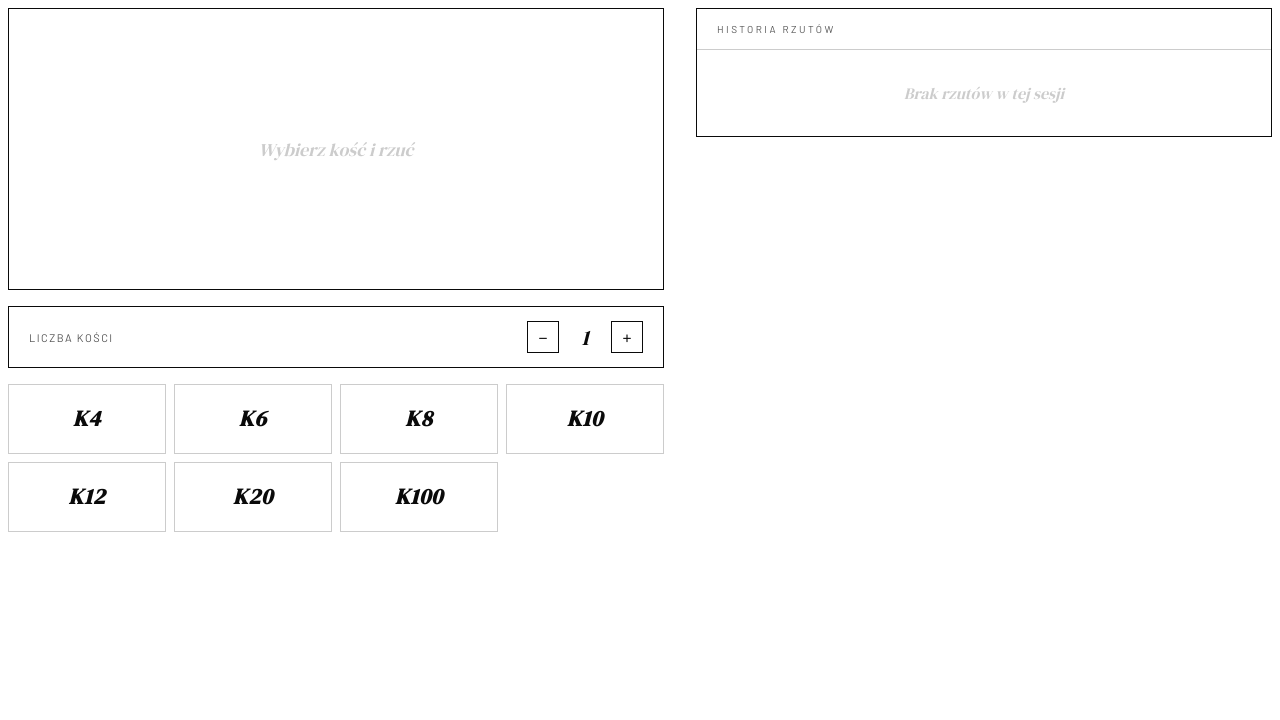
it: DiceRoller › po rzucie historia ma 1 wpis
Click the button with test id "die-20" at (253, 497), box [174,462,332,532]
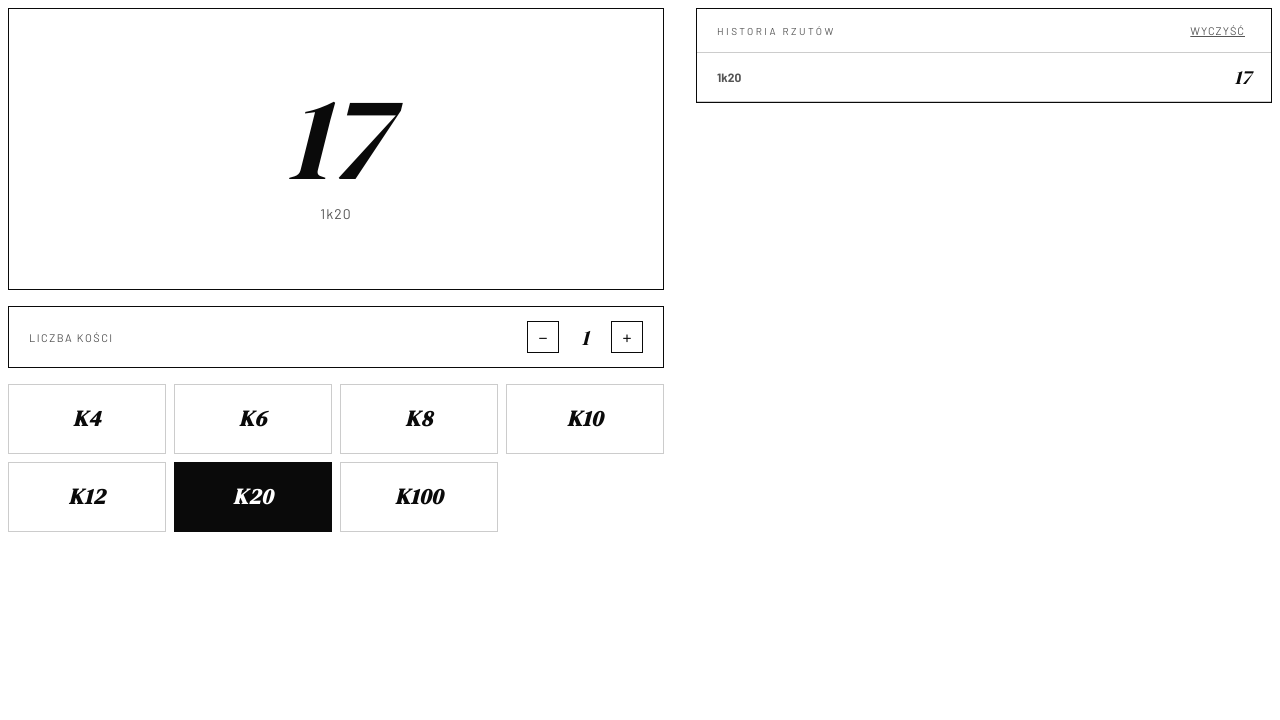
expect the text with test id "roll-total" is shown: met, box [286,76,386,196]
